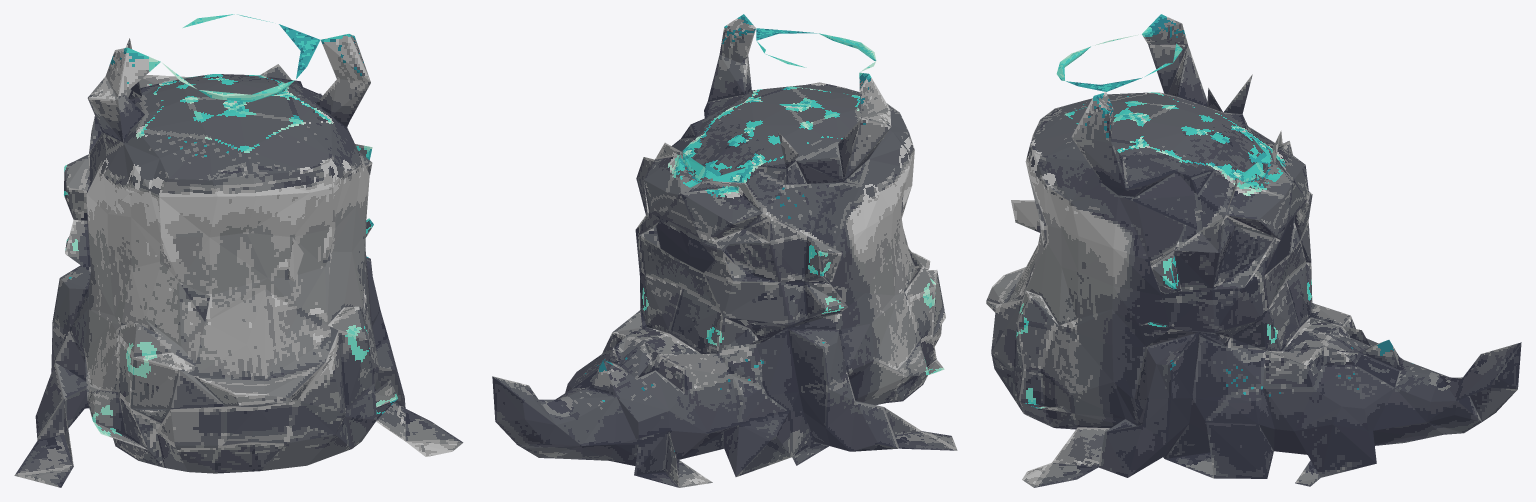
File: gamagon.glb
3 views of the same model, side by side, from view 1: azimuth 30°, elevation 25°; view 2: azimuth 150°, elevation 25°; view 3: azimuth 270°, elevation 25° (orthographic). The views are drawn at different scales.
Visible parts, largest first — view 1: model_m; view 2: model_m; view 3: model_m.
Boxes of the visible parts, left/top/right/bottom form: model_m: left=14, top=14, right=463, bottom=487; model_m: left=492, top=14, right=957, bottom=487; model_m: left=986, top=14, right=1521, bottom=487.
Size of the model in its own units: 25.42 by 26.47 by 35.32.
Materials: 1 (1 with a texture image).
